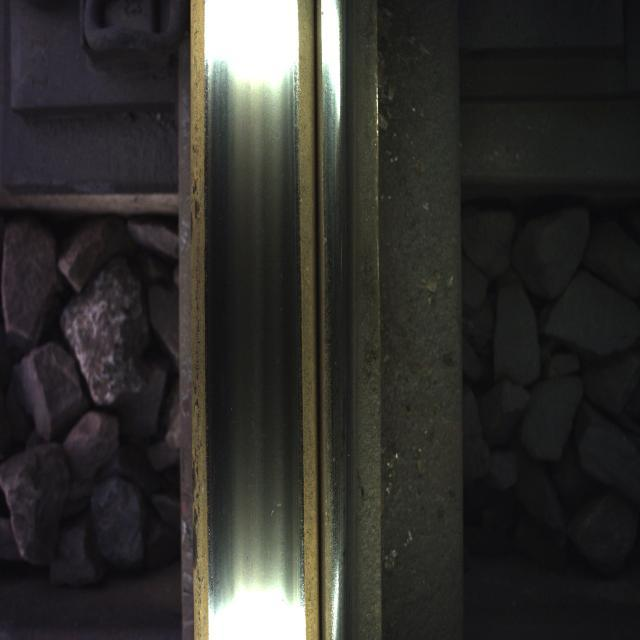break: (201, 36, 305, 605)
